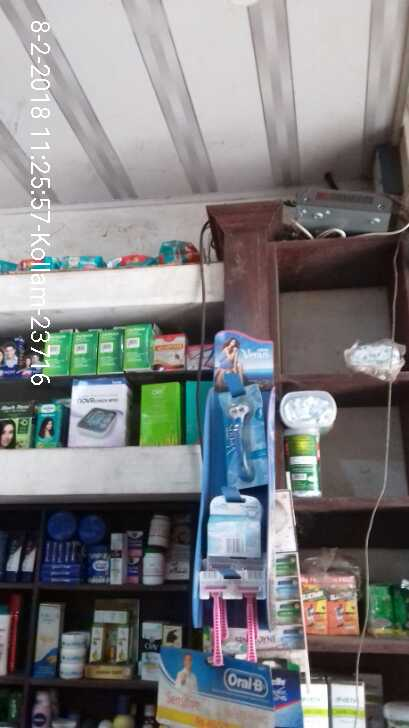venus: (217, 388, 272, 494)
